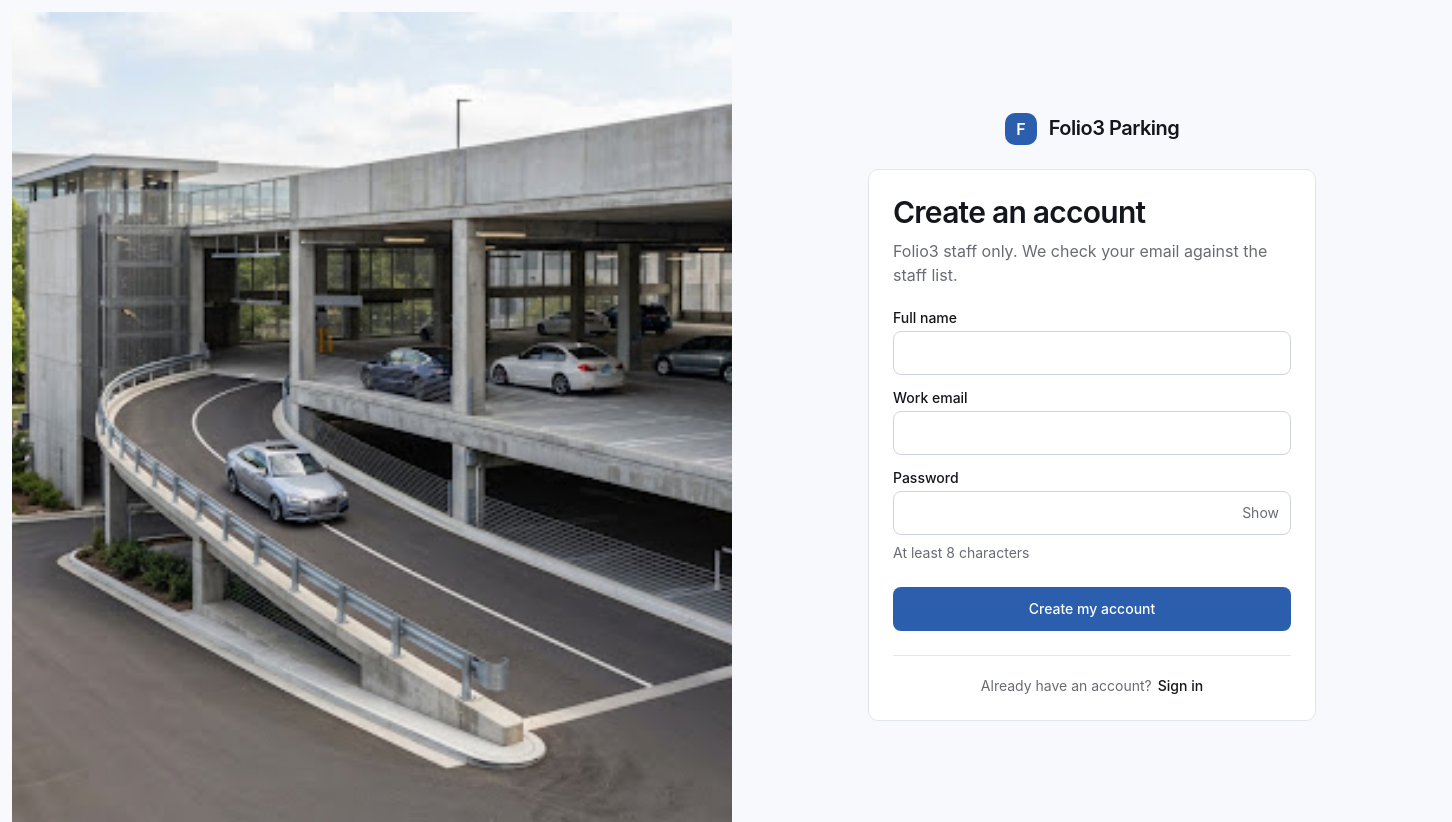
Scenario: account access › AC_1_2_ShowsReturnedIneligibleAccountRefusalWithoutSigningIn
Type "Nadia Farooq" into the field labelled "Full name" at (1092, 353), box [893,331,1291,375]
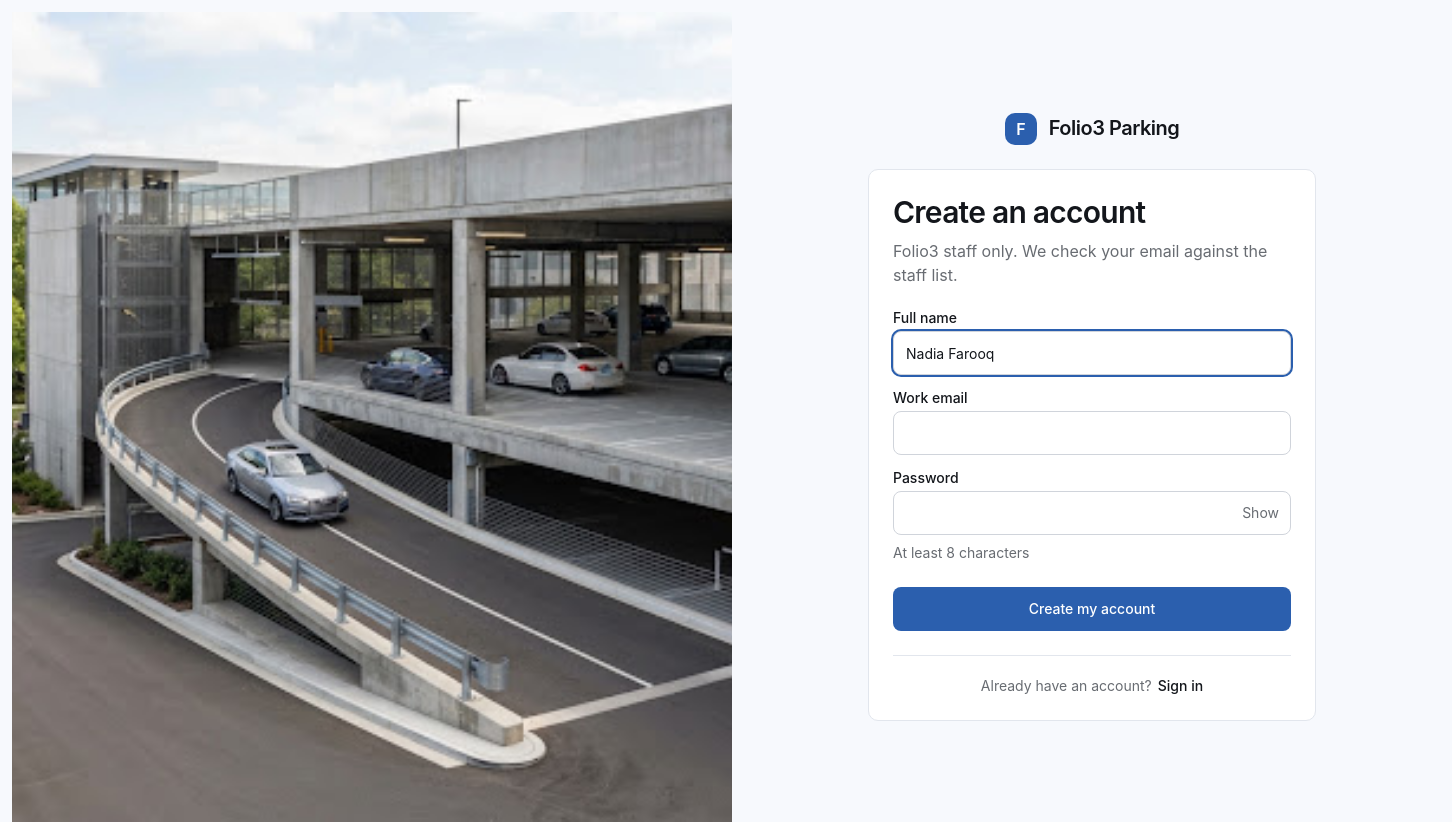
Type "nadia.farooq@outside.example" into the field labelled "Work email" at (1092, 433), box [893,411,1291,455]
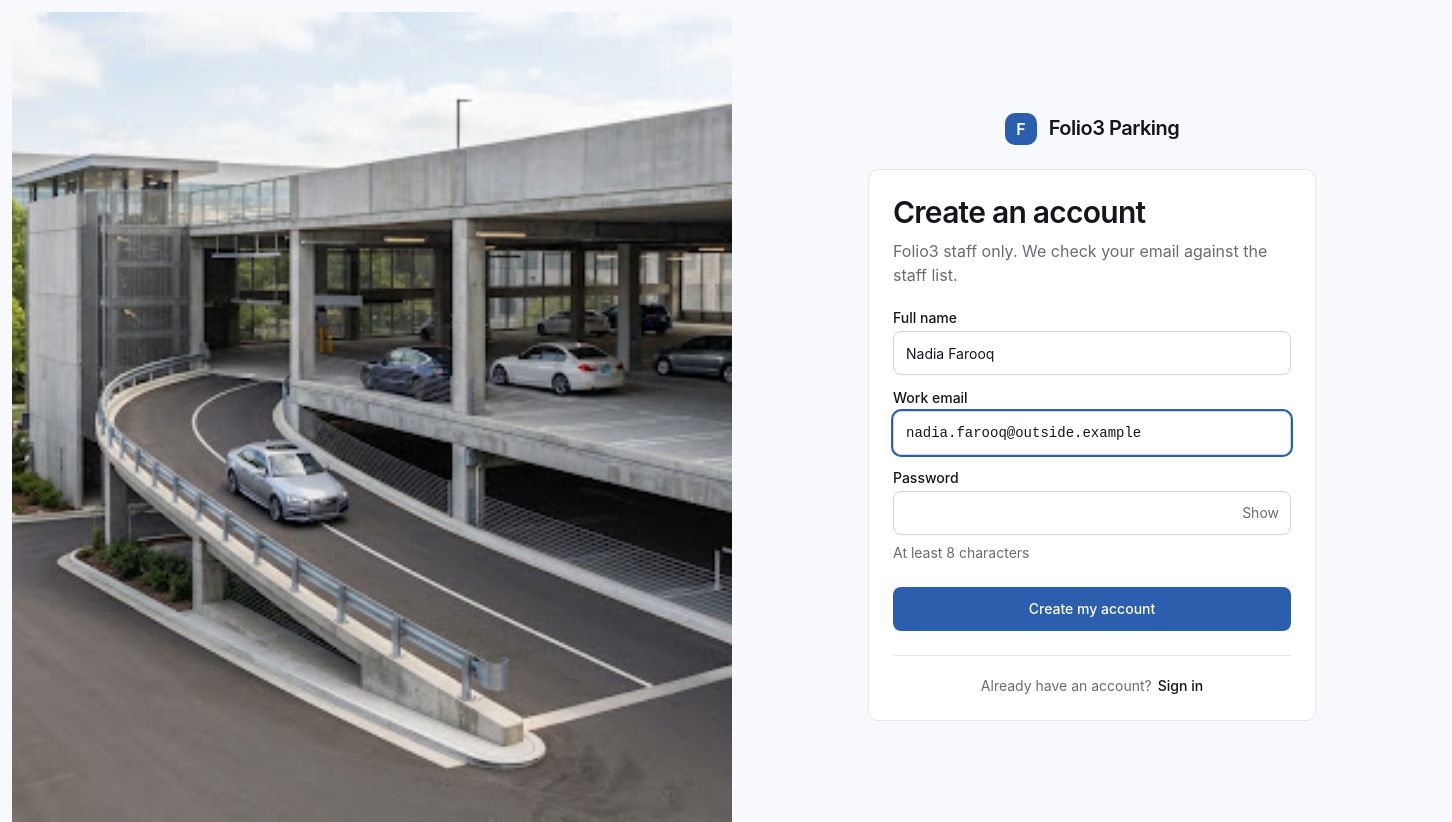
Type "SecureParking2026" into the password field labelled "Password" at (1092, 513), box [893,491,1291,535]
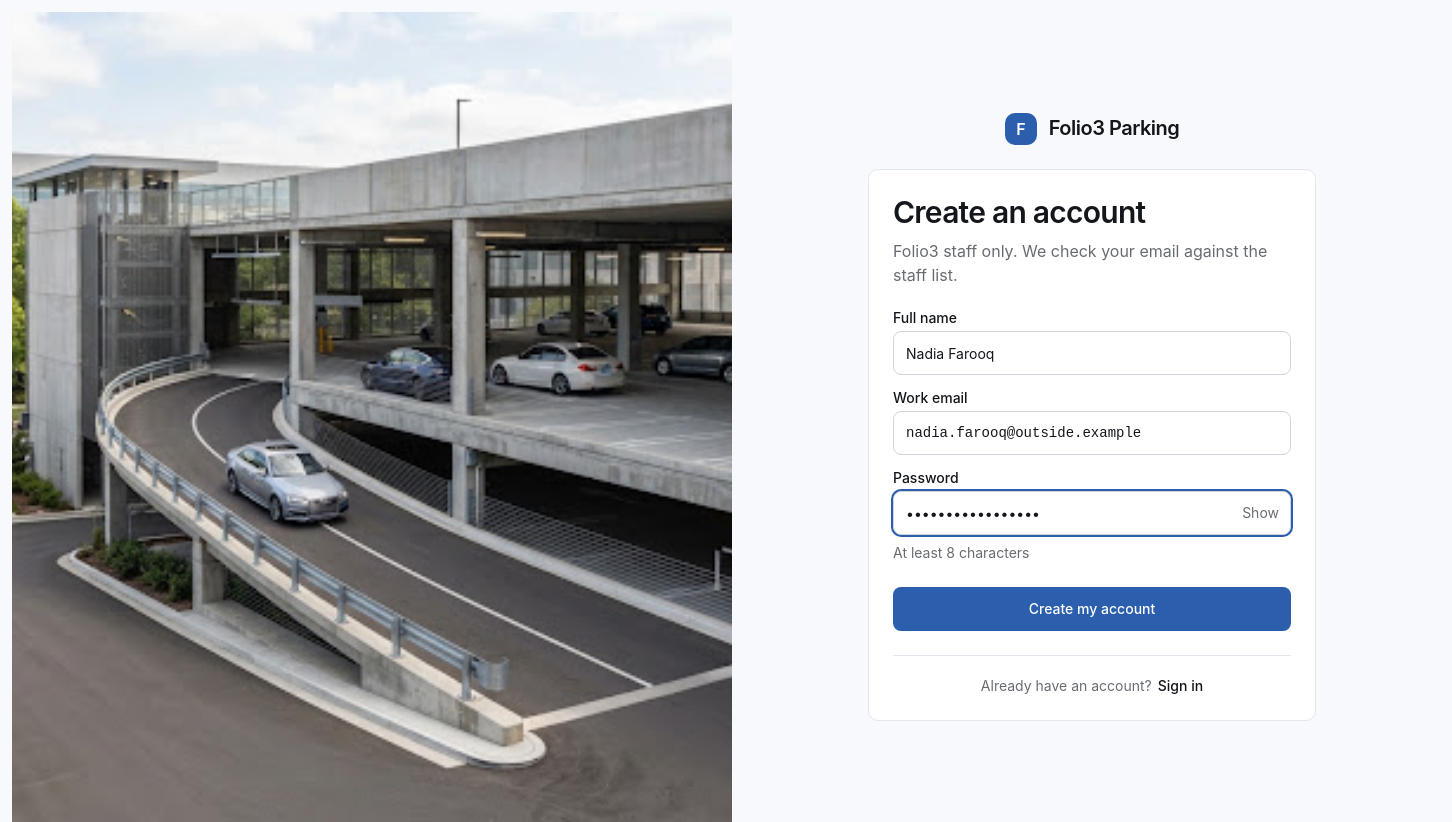
Click the button "Create my account" at (1092, 609), box [893,587,1291,631]
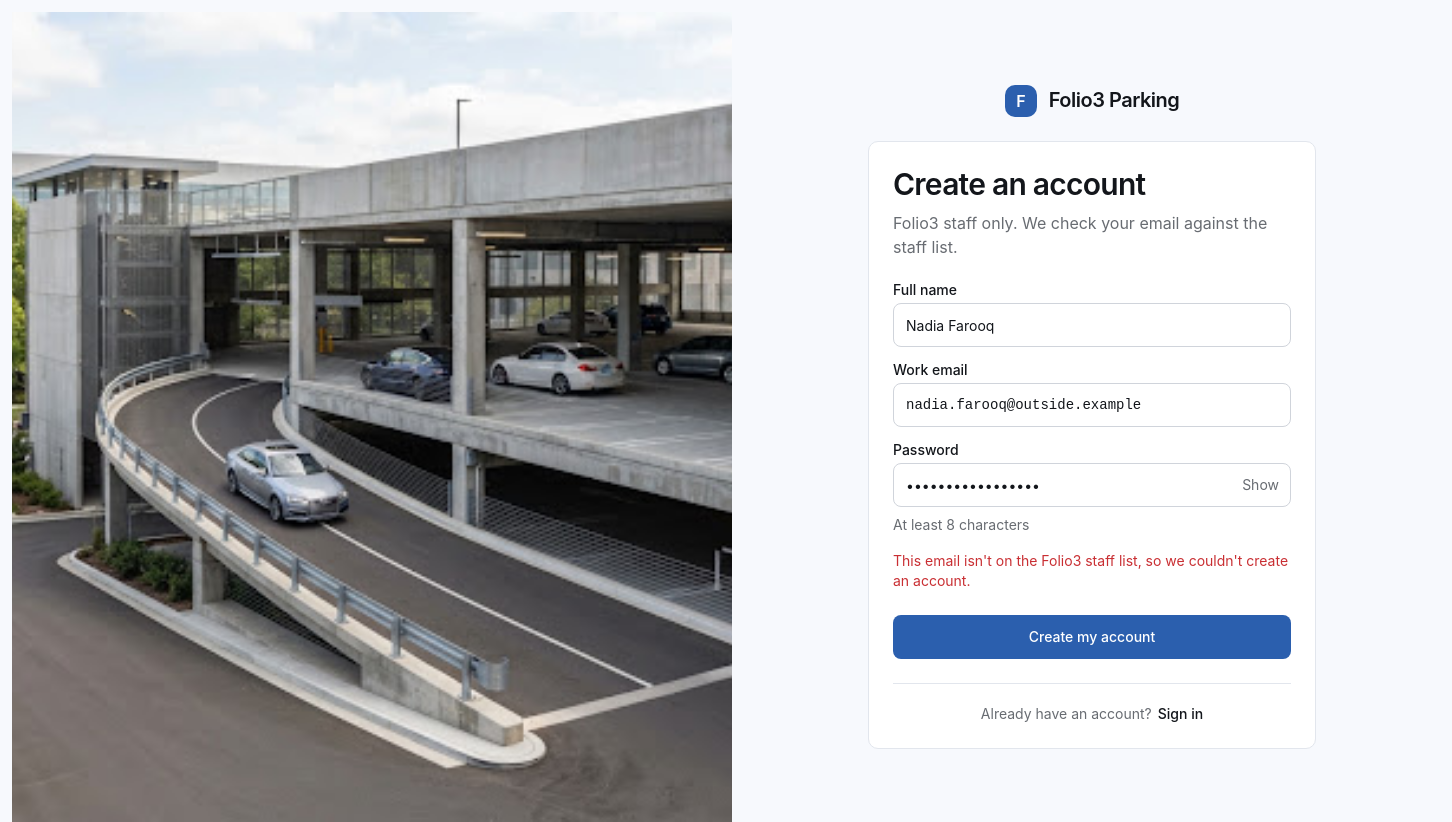
Result: the text "This email isn't on the Folio3 staff list, so we couldn't create an account." is shown at [893,551,1291,591]
